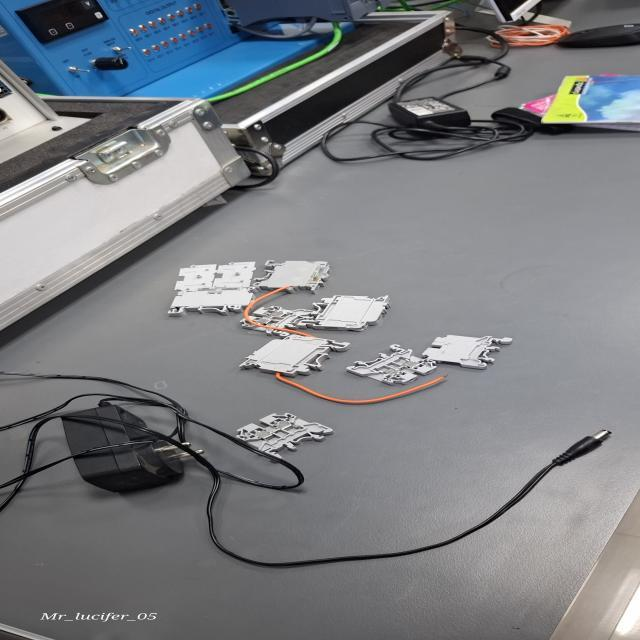Inverted: (424, 330, 508, 375)
Pass: (234, 412, 338, 462), (338, 343, 440, 388), (242, 300, 319, 340)
